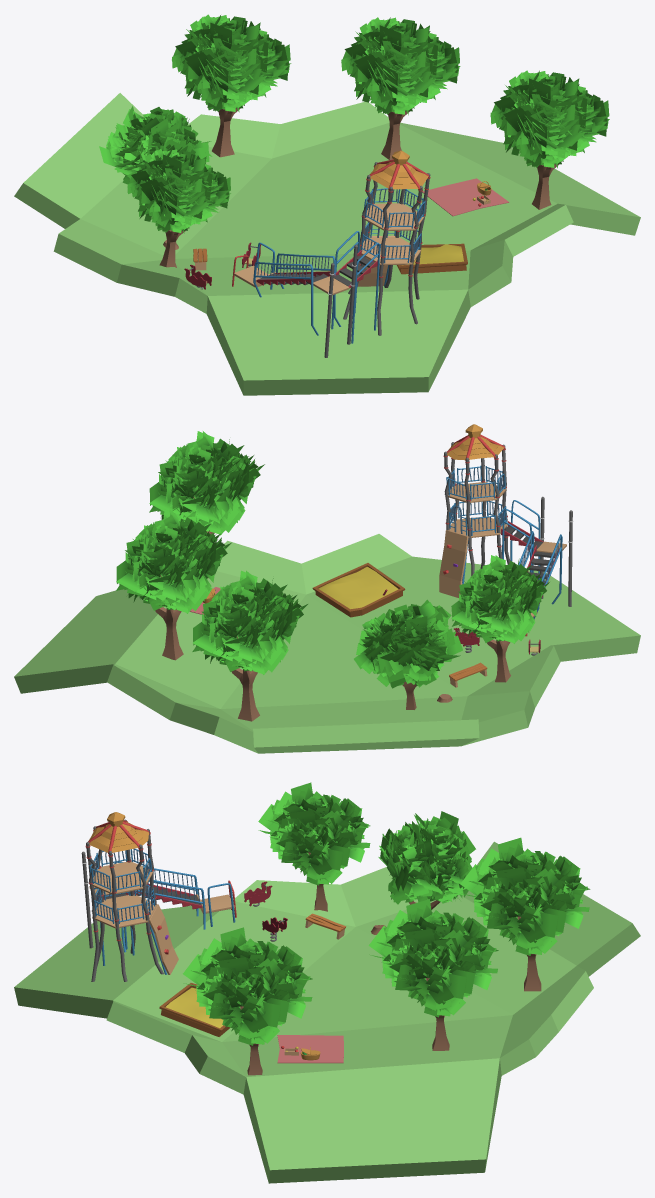
Rendered from Kletter.fbx.
3 views of the same model, one above another, from view 1: azimuth 30°, elevation 25°; view 2: azimuth 150°, elevation 25°; view 3: azimuth 270°, elevation 25° (orthographic). The views are drawn at different scales.
Visible parts, largest first — view 1: Mid.001, Plane.002, Plane.005, Plane.335, Plane.004, Plane.006, Circle.021, Plane.001, Circle.025, Circle.019, Circle.017, Circle.002 (+8 smaller); view 2: Mid.001, Plane.335, Plane.005, Plane.002, Plane.006, Plane.004, Circle.021, Cube.010, Circle.003, Cube.009, Circle.019, Circle.025 (+6 smaller); view 3: Mid.001, Plane.335, Plane.002, Plane.005, Plane.004, Plane.006, Circle.021, Plane.001, Circle.025, Circle.002, Circle.017, Circle.019 (+3 smaller).
Part boxes in pixels (x1,y1,x2,y2): Mid.001: (14,93,640,395); Plane.002: (490,70,609,168); Plane.005: (172,14,291,112); Plane.335: (341,17,460,115); Plane.004: (127,148,230,233); Plane.006: (99,106,212,184); Circle.021: (343,161,430,335); Plane.001: (422,178,509,216); Circle.025: (370,150,428,189); Circle.019: (360,188,425,263); Circle.017: (364,203,424,230); Circle.002: (361,237,421,265); Mid.001: (14,534,640,753); Plane.335: (116,509,231,613); Plane.005: (192,570,307,674); Plane.002: (149,431,264,535); Plane.006: (354,599,462,688); Plane.004: (451,555,549,643); Circle.021: (443,442,510,575); Cube.010: (318,566,398,609); Circle.003: (439,530,468,597); Cube.009: (312,563,405,617); Circle.019: (446,465,506,535); Circle.025: (447,424,503,460); Mid.001: (14,841,640,1183); Plane.335: (368,899,498,1017); Plane.002: (183,927,312,1045); Plane.005: (460,837,590,955); Plane.004: (258,782,370,885); Plane.006: (378,811,475,904); Circle.021: (85,819,164,981); Plane.001: (277,1035,343,1063); Circle.025: (88,812,148,852); Circle.002: (92,894,155,928); Circle.017: (92,861,152,894); Circle.019: (89,848,155,923).
Bounding box in the file's own units: 2075 × 825 × 2150.
